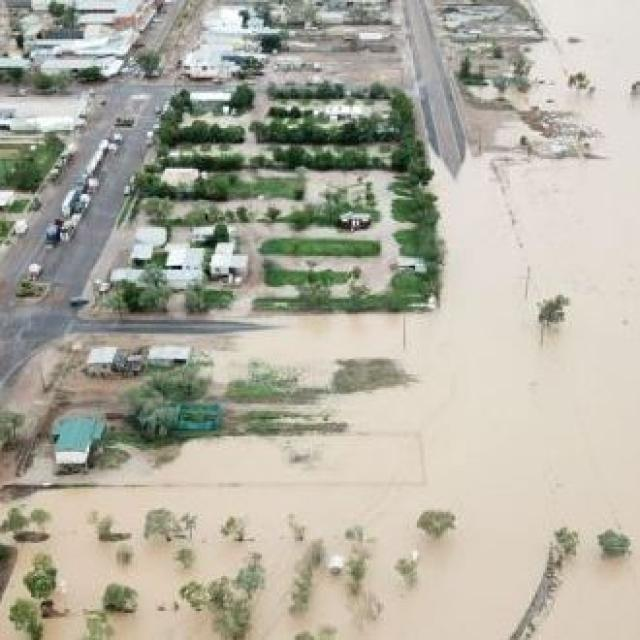flooded_areas: (45, 142, 638, 638)
